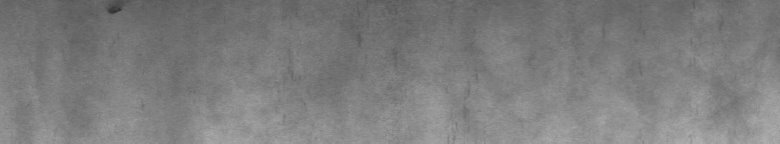fi: (107, 7, 124, 19)
